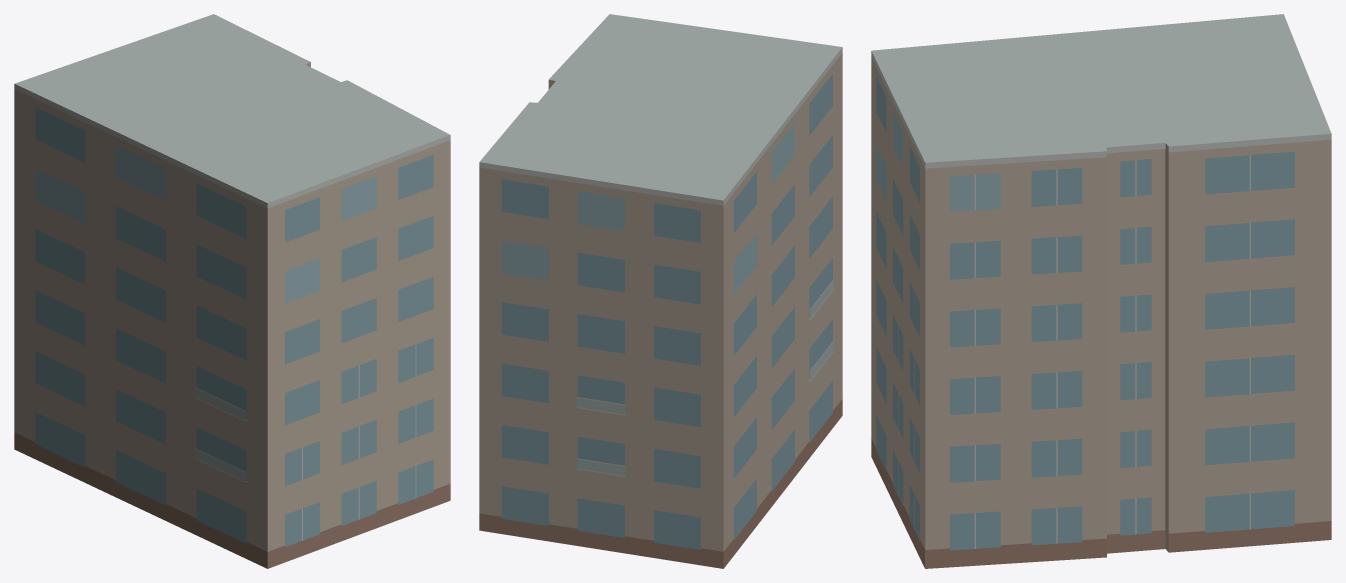
The model's file is survey-upis-32908577.glb.
The picture shows the model from 3 angles, left to right: view 1: azimuth 30°, elevation 25°; view 2: azimuth 150°, elevation 25°; view 3: azimuth 270°, elevation 25°; orthographic projection. The views are drawn at different scales.
Visible parts, largest first — view 1: survey-upis-32908577.tmp; view 2: survey-upis-32908577.tmp; view 3: survey-upis-32908577.tmp.
Boxes of the visible parts, <box> form: survey-upis-32908577.tmp: <box>14,14,450,568</box>; survey-upis-32908577.tmp: <box>479,14,842,568</box>; survey-upis-32908577.tmp: <box>871,14,1331,568</box>.
Size of the model in its own units: 13.13 by 16.7 by 17.17.
